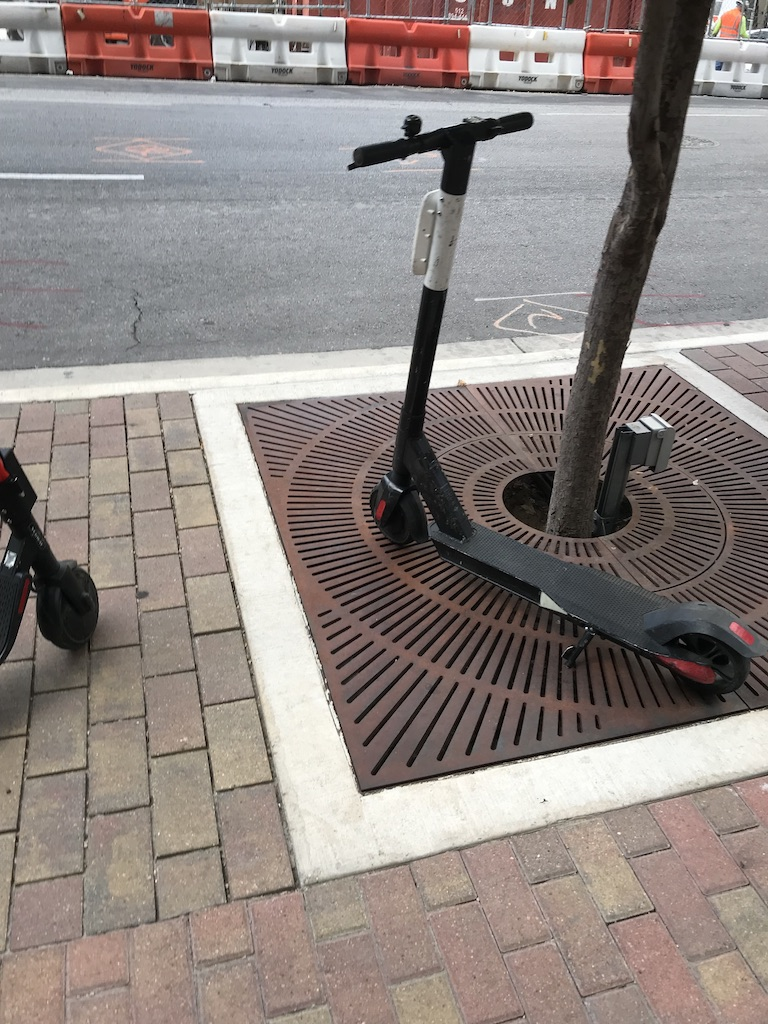scooter: (348, 109, 768, 695), (2, 448, 102, 658)
